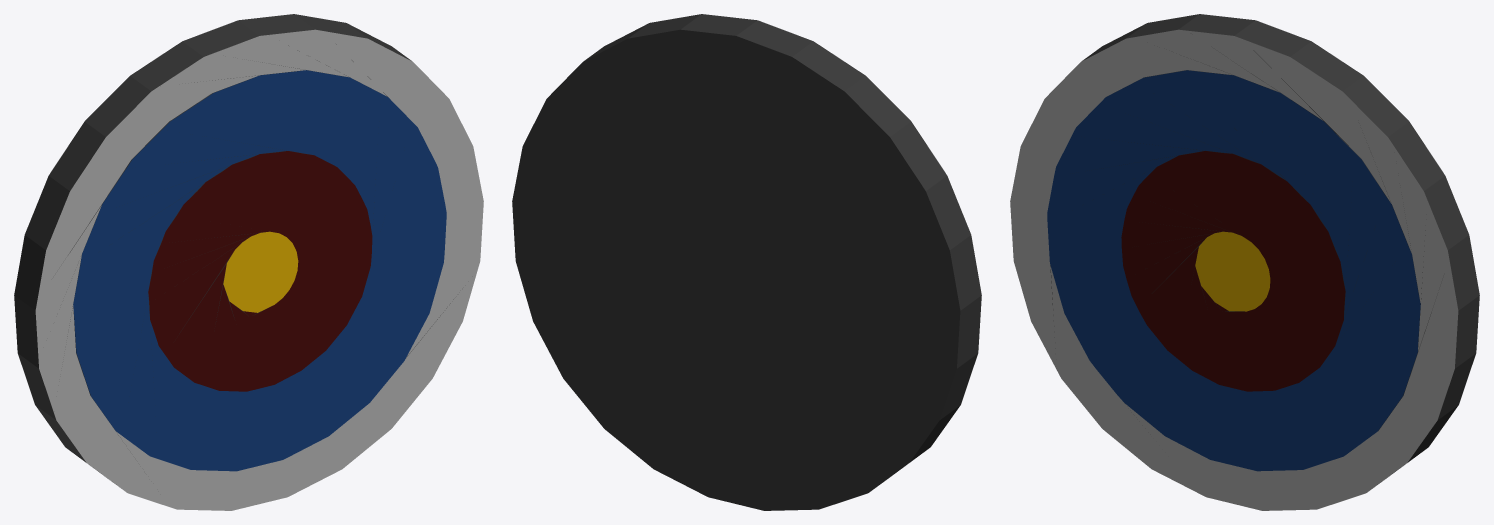
File: SM_Target.FBX
3 views of the same model, side by side, from view 1: azimuth 30°, elevation 25°; view 2: azimuth 150°, elevation 25°; view 3: azimuth 330°, elevation 25° (orthographic).
Visible parts, largest first — view 1: SM_Target; view 2: SM_Target; view 3: SM_Target.
Boxes of the visible parts, bbox=[...] form: SM_Target: bbox=[14, 14, 483, 510]; SM_Target: bbox=[512, 14, 981, 510]; SM_Target: bbox=[1010, 14, 1479, 510].
Bounding box in the file's own units: 151 × 13.43 × 151.
